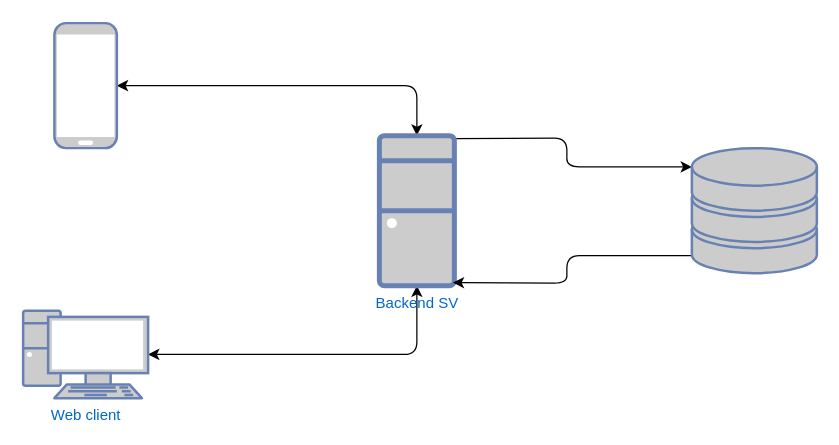
The diagram is 839 pixels wide and 445 high, and some of its shapes have lost their labels. The shapes that lost their labels are listed below. From the top down, each one's centre as x and y in pixels, then its label:
At pixel 85 85: "Mobile client".
At pixel 754 210: "ClientDB".
